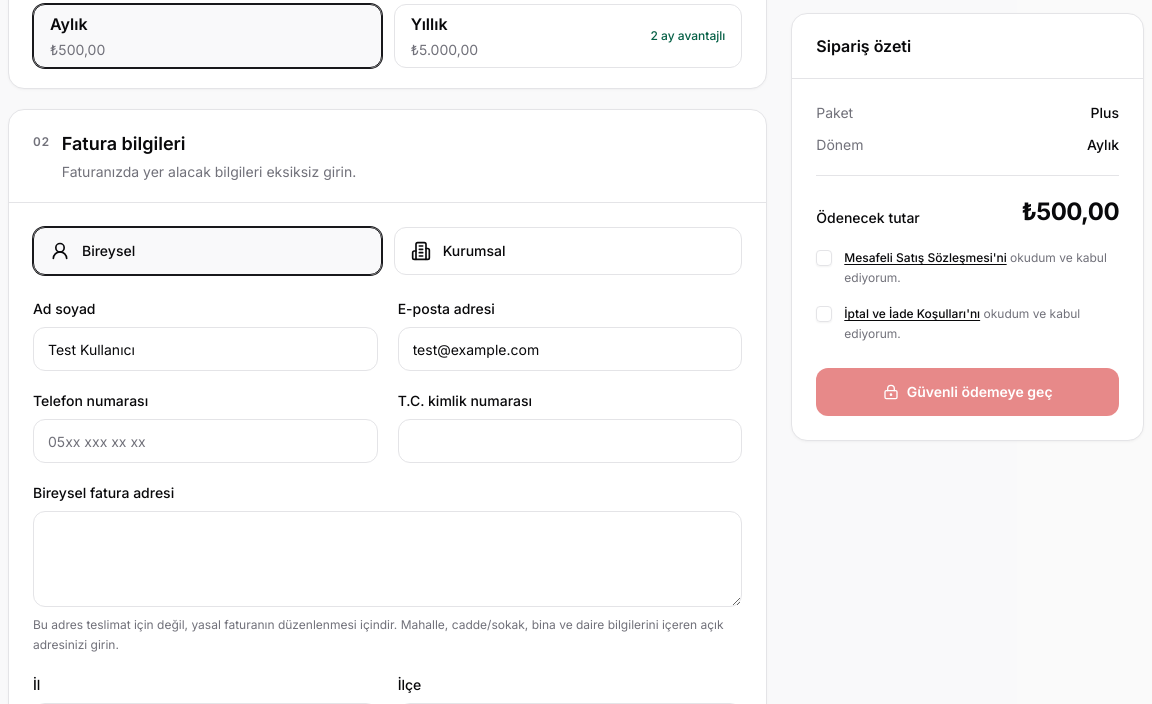
Test case: checkout flow › asks anonymous customers to sign in without showing a saved state
The image size is (1152, 704).
Earlier steps of the test are not shown.
(page scrolled)
Type "05555555555" into the field labelled "Telefon numarası" at [205, 441], box [33,419,378,463]
Type "11111111111" into the field labelled "T.C. kimlik numarası" at [570, 441], box [398,419,742,463]
Type "Test Mahallesi No: 1" into the text box labelled "Bireysel fatura adresi" at [388, 559], box [33,511,742,607]
(page scrolled)
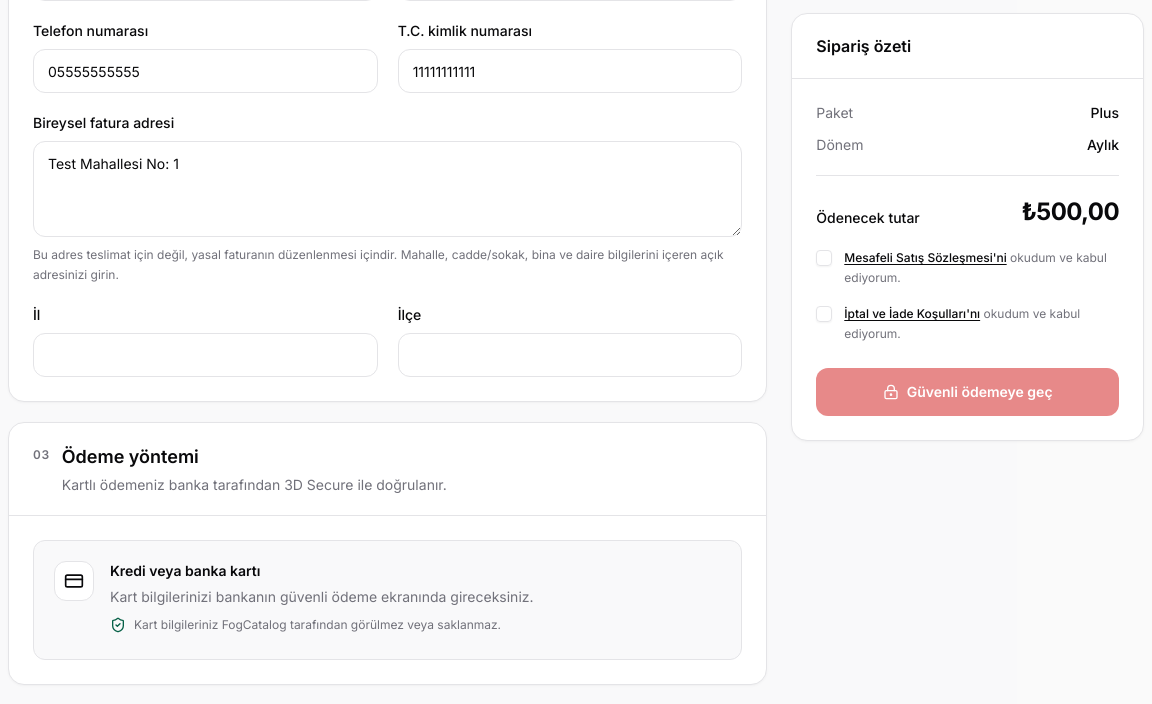
Type "Bursa" into the field labelled "İl" at [205, 355], box [33,333,378,377]
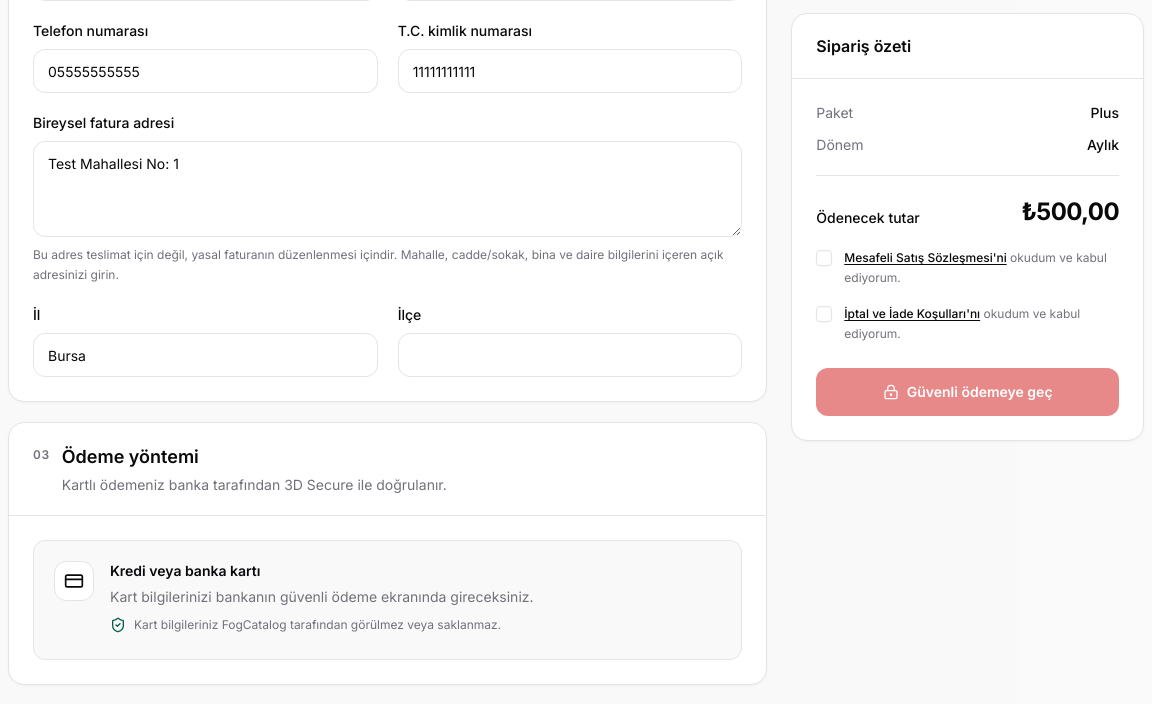
Type "Nilüfer" into the field labelled "İlçe" at [570, 355], box [398,333,742,377]
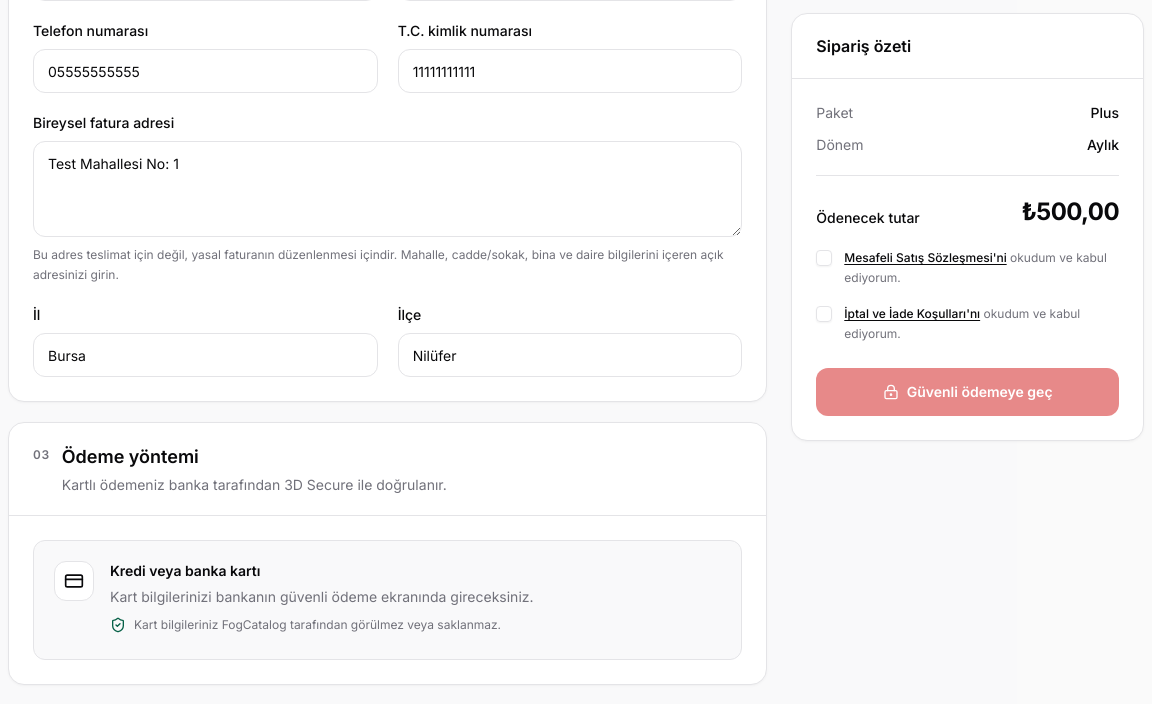
Click the checkbox named "Mesafeli Satış Sözleşmesi" next to "Mesafeli Satış Sözleşmesi'ni" at [824, 258], box [816,250,832,266]
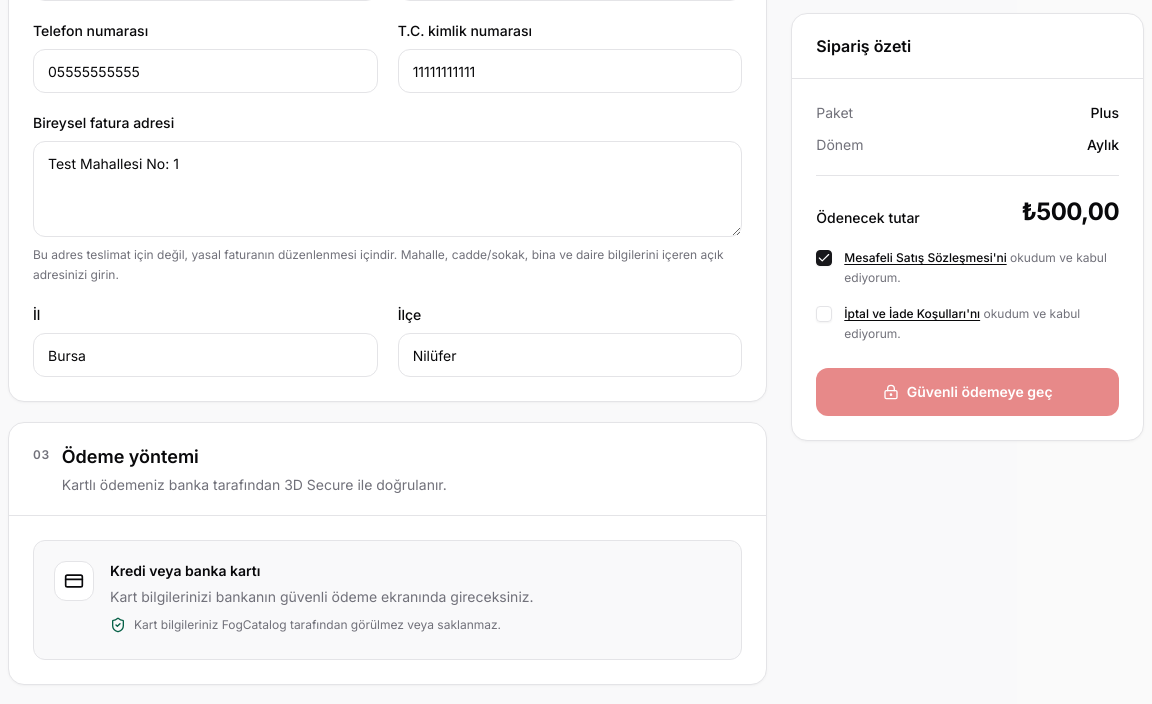
Click the checkbox named "İptal ve İade Koşulları" next to "İptal ve İade Koşulları'nı" at [824, 314], box [816,306,832,322]
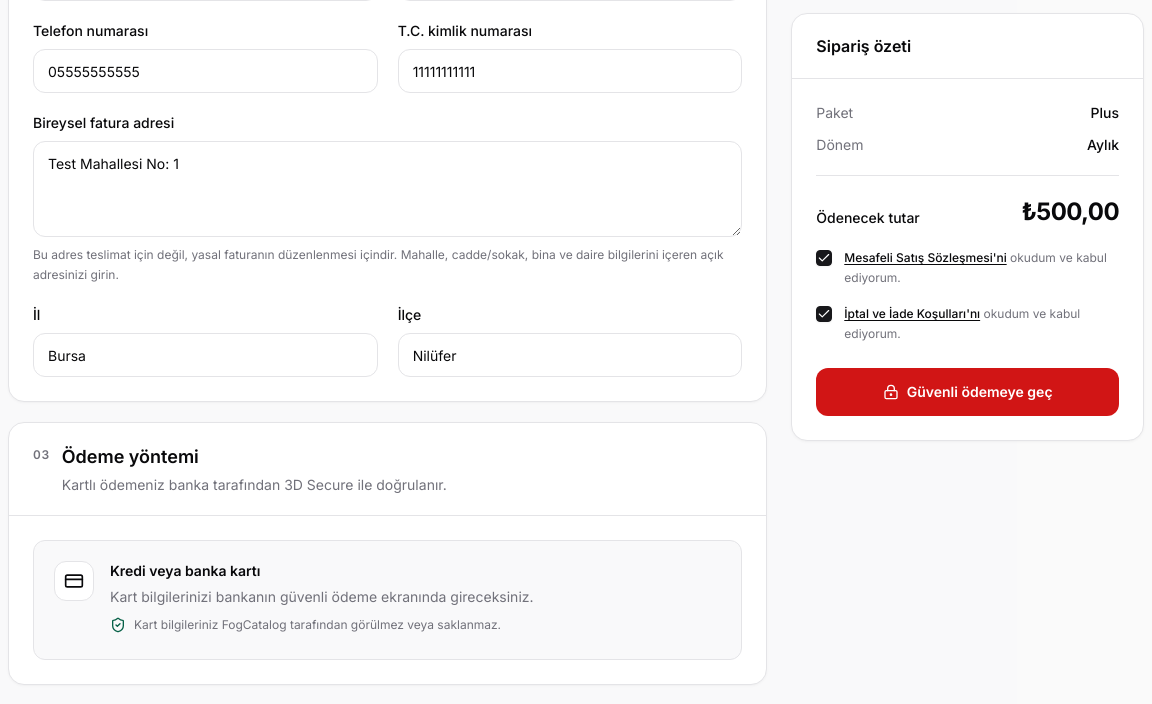
Click the button "Güvenli ödemeye geç" at [968, 392], box [816,368,1119,416]
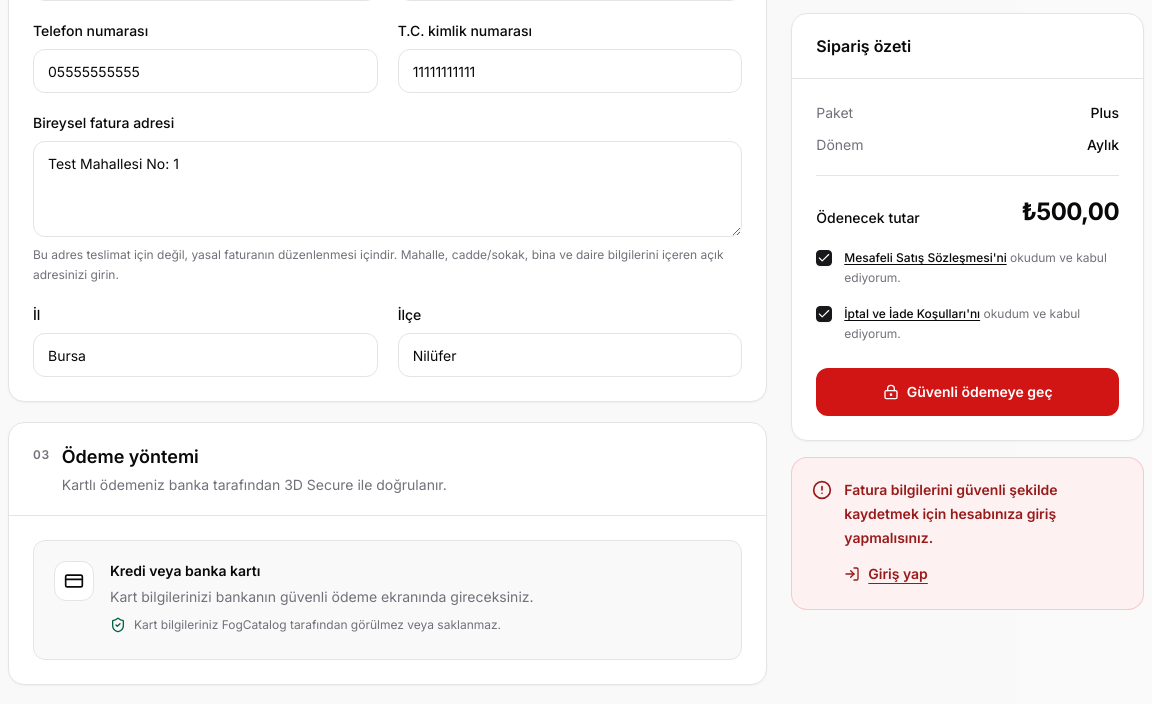
Expected: the message shows "hesabınıza giriş yapmalısınız", [844,481,1058,546]
